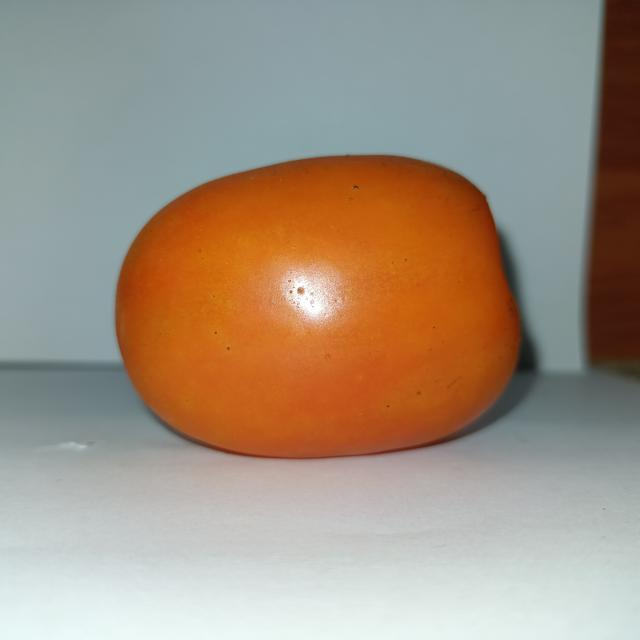Red: (113, 152, 523, 459)
